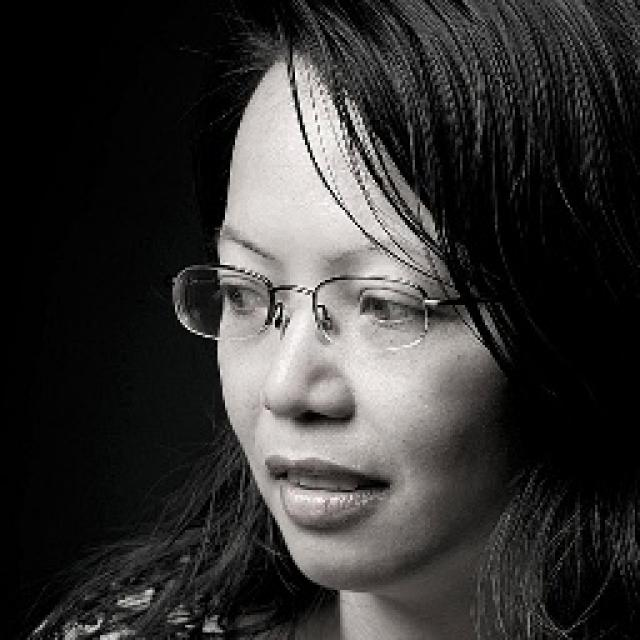glasses: (167, 239, 479, 374)
